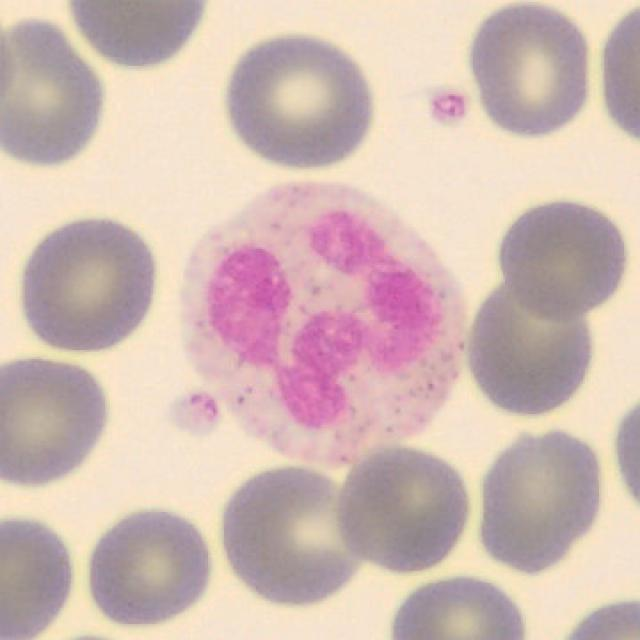Neutrofilo segmentado: (178, 181, 469, 473)
